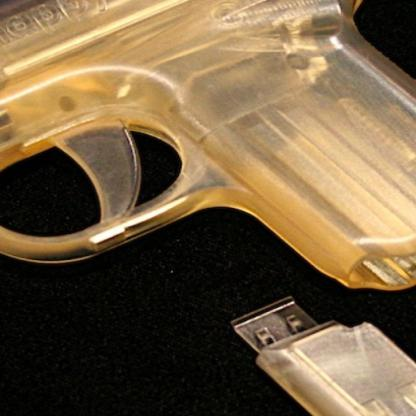gun: (0, 0, 415, 292)
